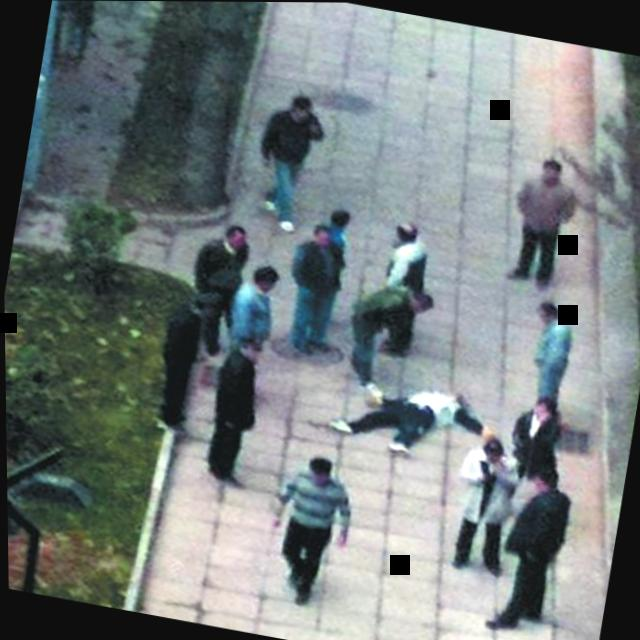Fall-Detected: (311, 345, 497, 475)
